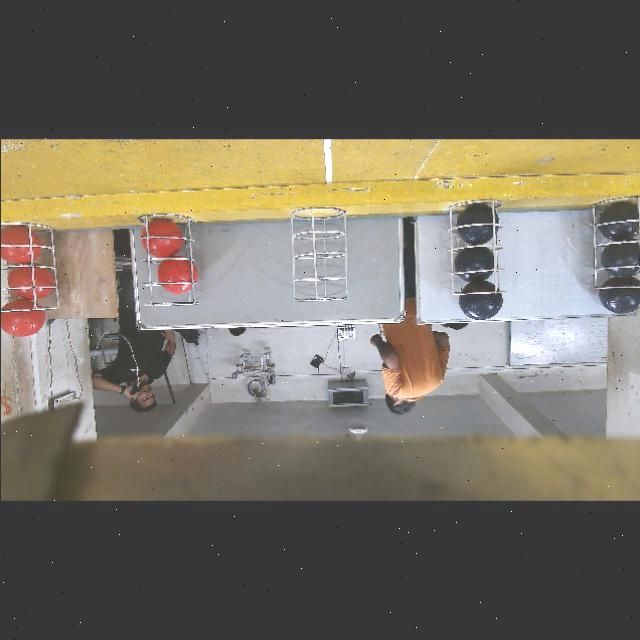P: (598, 237, 640, 277), (459, 281, 502, 320), (457, 204, 497, 243), (600, 198, 638, 237), (453, 245, 493, 282), (601, 277, 640, 314)
R: (7, 261, 53, 298), (0, 297, 44, 335), (0, 224, 40, 264), (140, 217, 181, 256), (157, 254, 196, 292)
S: (1, 218, 64, 316), (136, 213, 196, 313), (449, 198, 508, 298), (288, 202, 344, 300), (588, 202, 640, 292)
